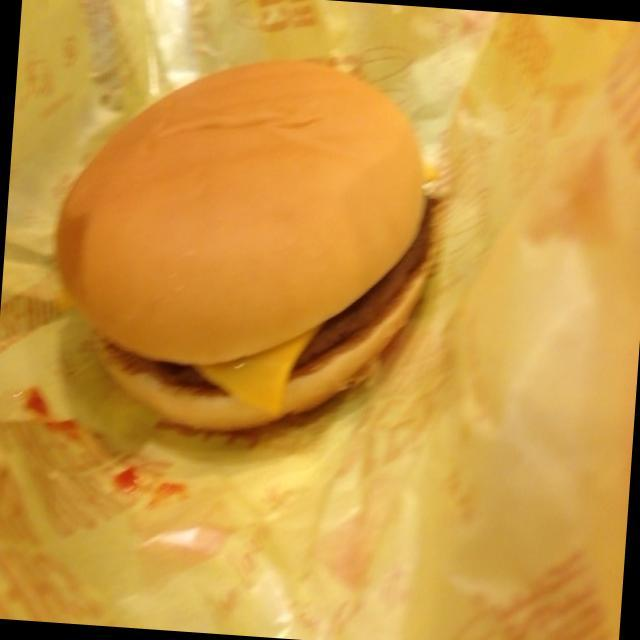Hamburger: (42, 52, 436, 450)
